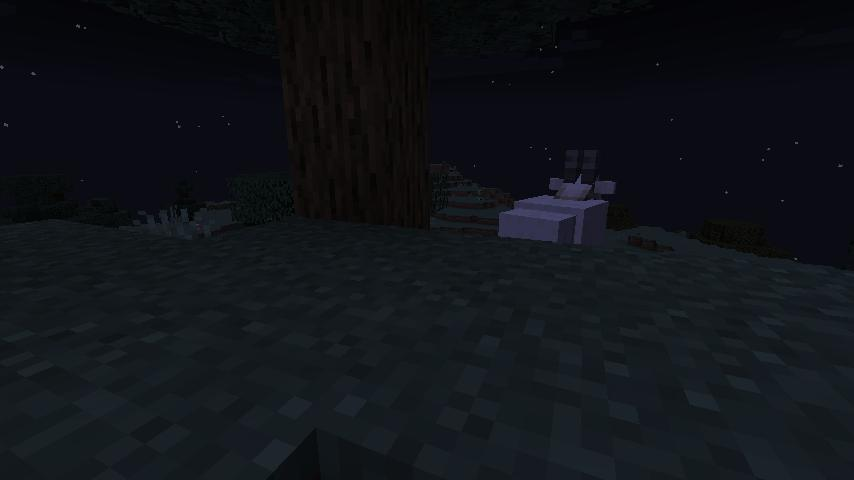goat: (501, 146, 618, 253)
